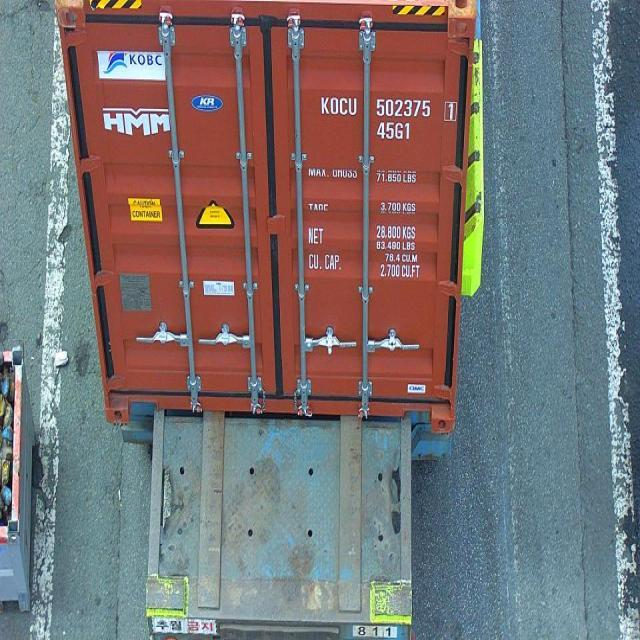ISO: (376, 122, 414, 140)
container_number: (323, 95, 458, 119)
